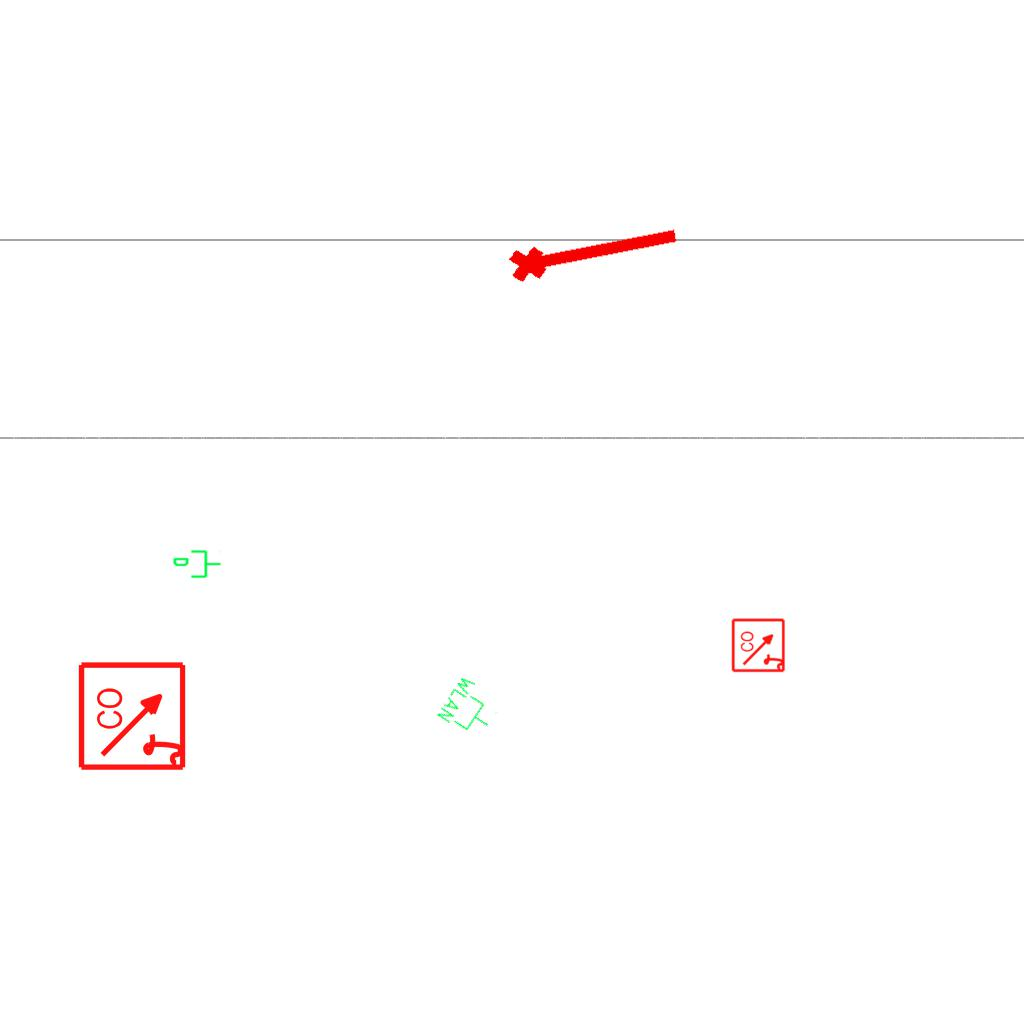ASR_Ansaugoeffnung: (503, 209, 685, 289)
Datenanschluss_einfach: (172, 548, 222, 582)
ROA_Rauchmelder_optisch_mit_Signalgeber_(Sockelsirene): (77, 659, 190, 772), (731, 617, 787, 673)
WLAN: (434, 672, 506, 744)
